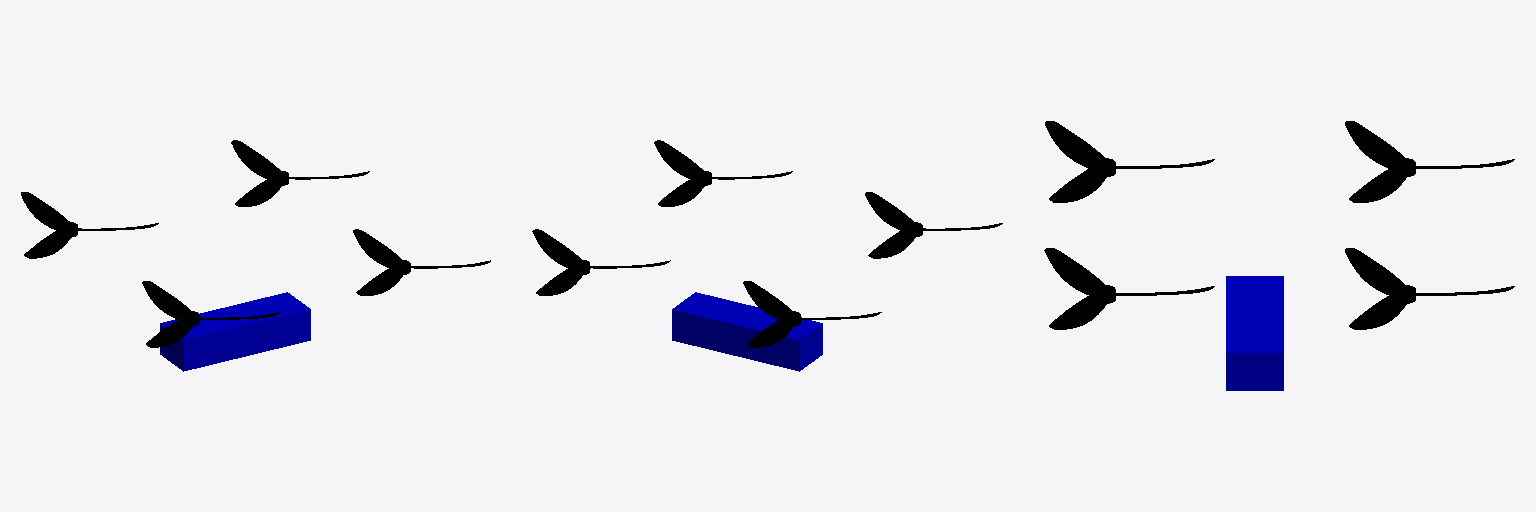
robot.urdf — module_quadrotor:
<?xml version="1.0" ?>
<!-- =================================================================================== -->
<!-- |    This document was autogenerated by xacro from urdf/robot.urdf.xacro          | -->
<!-- |    EDITING THIS FILE BY HAND IS NOT RECOMMENDED                                 | -->
<!-- =================================================================================== -->
<robot name="module_quadrotor">
  <!-- general attribute -->
  <baselink name="fc"/>
  <thrust_link name="thrust"/>
  <!-- dynamics -->
  <m_f_rate value="-0.011"/>
  <!-- [N] -->
  <!-- dummy root link for KDL -->
  <link name="root">
    <inertial>
      <origin rpy="0 0 0" xyz="0 0 0"/>
      <mass value="0.00001"/>
      <inertia ixx="0.000001" ixy="0.0" ixz="0.0" iyy="0.000001" iyz="0.0" izz="0.000002"/>
    </inertial>
  </link>
  <joint name="root_joint" type="fixed">
    <parent link="root"/>
    <child link="base_link"/>
    <origin rpy="0 0 0" xyz="0 0 0"/>
    <axis xyz="0 0 1"/>
  </joint>
  <!-- base_link -->
  <link name="base_link">
    <inertial>
      <mass value="0.832"/>
      <origin rpy="0 0 0" xyz="0.002 0 0.026000000000000002"/>
      <!-- TODO: true cog pos -->
      <inertia ixx="0.0030" ixy="0" ixz="0" iyy="0.0030" iyz="0" izz="0.0045"/>
    </inertial>
    <visual>
      <origin rpy="0 0 0" xyz="0 0 0"/>
      <geometry>
        <mesh filename="package://mini_quadrotor/mesh/main_body_livox.dae"/>
      </geometry>
    </visual>
    <collision>
      <origin rpy="0 0 0" xyz="0 0 0.025"/>
      <geometry>
        <box size="0.32 0.32 0.16"/>
      </geometry>
    </collision>
  </link>
  <joint name="main_body2fc" type="fixed">
    <parent link="base_link"/>
    <child link="fc"/>
    <origin rpy="0 0 0" xyz="0 0 0"/>
  </joint>
  <link name="fc">
    <inertial>
      <origin rpy="0 0 0" xyz="0 0 0"/>
      <mass value="0.00001"/>
      <inertia ixx="0.000001" ixy="0.0" ixz="0.0" iyy="0.000001" iyz="0.0" izz="0.000001"/>
    </inertial>
  </link>
  <joint name="main_body2lidar_imu" type="fixed">
    <parent link="base_link"/>
    <child link="lidar_imu"/>
    <origin rpy="0 0 0" xyz="0.011 0.02329 0.04538"/>
  </joint>
  <link name="lidar_imu">
    <inertial>
      <origin rpy="0 0 0" xyz="0 0 0"/>
      <mass value="0.00001"/>
      <inertia ixx="0.000001" ixy="0.0" ixz="0.0" iyy="0.000001" iyz="0.0" izz="0.000001"/>
    </inertial>
  </link>
  <joint name="main_body2battery" type="fixed">
    <parent link="base_link"/>
    <child link="battery"/>
    <origin rpy="1.5707963267948966 0 0" xyz="0.0 0 -0.035"/>
  </joint>
  <link name="battery">
    <inertial>
      <mass value="0.188"/>
      <origin rpy="0 0 0" xyz="0 0 0"/>
      <inertia ixx="0.0002" ixy="0.0" ixz="0.0" iyy="0.0002" iyz="0.0" izz="0.0002"/>
    </inertial>
    <visual>
      <origin rpy="0 0 0" xyz="0 0 0"/>
      <geometry>
        <mesh filename="package://mini_quadrotor/mesh/turnigy_3S_2200mAh.dae" scale="1 1 1"/>
      </geometry>
    </visual>
  </link>
  <joint name="rotor1" type="continuous">
    <limit effort="100.0" lower="0.0" upper="8.0" velocity="0.5"/>
    <parent link="base_link"/>
    <child link="thrust1"/>
    <origin rpy="0 0 0" xyz="-0.085 -0.085 0.026"/>
    <axis xyz="0 0 -1"/>
  </joint>
  <link name="thrust1">
    <!-- visual & collisiont -->
    <inertial>
      <origin rpy="0 0 0" xyz="0 0 0"/>
      <mass value="0.0091"/>
      <inertia ixx="0.00000807" ixy="0.0" ixz="0.0" iyy="0.00000807" iyz="0.0" izz="0.00001612"/>
    </inertial>
    <visual>
      <origin rpy="0 0 0" xyz="0 0 0"/>
      <geometry>
        <mesh filename="package://mini_quadrotor/mesh/prop_5inch.dae"/>
      </geometry>
    </visual>
  </link>
  <gazebo reference="base_link">
    <dampingFactor>0.00</dampingFactor>
  </gazebo>
  <transmission name="rotor_tran1">
    <type>transmission_interface/SimpleTransmission</type>
    <joint name="rotor1">
      <!-- TODO: effort is torque, maybe position is enough -->
      <hardwareInterface>RotorInterface</hardwareInterface>
    </joint>
    <actuator name="rotor1">
      <!-- TODO: effort is torque, maybe position is enough -->
      <hardwareInterface>RotorInterface</hardwareInterface>
      <mechanicalReduction>1</mechanicalReduction>
    </actuator>
  </transmission>
  <joint name="rotor2" type="continuous">
    <limit effort="100.0" lower="0.0" upper="8.0" velocity="0.5"/>
    <parent link="base_link"/>
    <child link="thrust2"/>
    <origin rpy="0 0 0" xyz="0.085 -0.085 0.026"/>
    <axis xyz="0 0 1"/>
  </joint>
  <link name="thrust2">
    <!-- visual & collisiont -->
    <inertial>
      <origin rpy="0 0 0" xyz="0 0 0"/>
      <mass value="0.0091"/>
      <inertia ixx="0.00000807" ixy="0.0" ixz="0.0" iyy="0.00000807" iyz="0.0" izz="0.00001612"/>
    </inertial>
    <visual>
      <origin rpy="0 0 0" xyz="0 0 0"/>
      <geometry>
        <mesh filename="package://mini_quadrotor/mesh/prop_5inch.dae"/>
      </geometry>
    </visual>
  </link>
  <gazebo reference="base_link">
    <dampingFactor>0.00</dampingFactor>
  </gazebo>
  <transmission name="rotor_tran2">
    <type>transmission_interface/SimpleTransmission</type>
    <joint name="rotor2">
      <!-- TODO: effort is torque, maybe position is enough -->
      <hardwareInterface>RotorInterface</hardwareInterface>
    </joint>
    <actuator name="rotor2">
      <!-- TODO: effort is torque, maybe position is enough -->
      <hardwareInterface>RotorInterface</hardwareInterface>
      <mechanicalReduction>1</mechanicalReduction>
    </actuator>
  </transmission>
  <joint name="rotor3" type="continuous">
    <limit effort="100.0" lower="0.0" upper="8.0" velocity="0.5"/>
    <parent link="base_link"/>
    <child link="thrust3"/>
    <origin rpy="0 0 0" xyz="0.085 0.085 0.026"/>
    <axis xyz="0 0 -1"/>
  </joint>
  <link name="thrust3">
    <!-- visual & collisiont -->
    <inertial>
      <origin rpy="0 0 0" xyz="0 0 0"/>
      <mass value="0.0091"/>
      <inertia ixx="0.00000807" ixy="0.0" ixz="0.0" iyy="0.00000807" iyz="0.0" izz="0.00001612"/>
    </inertial>
    <visual>
      <origin rpy="0 0 0" xyz="0 0 0"/>
      <geometry>
        <mesh filename="package://mini_quadrotor/mesh/prop_5inch.dae"/>
      </geometry>
    </visual>
  </link>
  <gazebo reference="base_link">
    <dampingFactor>0.00</dampingFactor>
  </gazebo>
  <transmission name="rotor_tran3">
    <type>transmission_interface/SimpleTransmission</type>
    <joint name="rotor3">
      <!-- TODO: effort is torque, maybe position is enough -->
      <hardwareInterface>RotorInterface</hardwareInterface>
    </joint>
    <actuator name="rotor3">
      <!-- TODO: effort is torque, maybe position is enough -->
      <hardwareInterface>RotorInterface</hardwareInterface>
      <mechanicalReduction>1</mechanicalReduction>
    </actuator>
  </transmission>
  <joint name="rotor4" type="continuous">
    <limit effort="100.0" lower="0.0" upper="8.0" velocity="0.5"/>
    <parent link="base_link"/>
    <child link="thrust4"/>
    <origin rpy="0 0 0" xyz="-0.085 0.085 0.026"/>
    <axis xyz="0 0 1"/>
  </joint>
  <link name="thrust4">
    <!-- visual & collisiont -->
    <inertial>
      <origin rpy="0 0 0" xyz="0 0 0"/>
      <mass value="0.0091"/>
      <inertia ixx="0.00000807" ixy="0.0" ixz="0.0" iyy="0.00000807" iyz="0.0" izz="0.00001612"/>
    </inertial>
    <visual>
      <origin rpy="0 0 0" xyz="0 0 0"/>
      <geometry>
        <mesh filename="package://mini_quadrotor/mesh/prop_5inch.dae"/>
      </geometry>
    </visual>
  </link>
  <gazebo reference="base_link">
    <dampingFactor>0.00</dampingFactor>
  </gazebo>
  <transmission name="rotor_tran4">
    <type>transmission_interface/SimpleTransmission</type>
    <joint name="rotor4">
      <!-- TODO: effort is torque, maybe position is enough -->
      <hardwareInterface>RotorInterface</hardwareInterface>
    </joint>
    <actuator name="rotor4">
      <!-- TODO: effort is torque, maybe position is enough -->
      <hardwareInterface>RotorInterface</hardwareInterface>
      <mechanicalReduction>1</mechanicalReduction>
    </actuator>
  </transmission>
</robot>

--- Facts derived from the render (not from the file) ---
Views: 3 orthographic renders of the robot side by side, from view 1: azimuth 30°, elevation 25°; view 2: azimuth 150°, elevation 25°; view 3: azimuth 270°, elevation 25°.
Robot: module_quadrotor — 9 links, 8 joints (4 continuous, 4 fixed); root link root; default pose: all joints at 0.
Visible links, largest first — view 1: battery, thrust2, thrust3, thrust4, thrust1; view 2: battery, thrust3, thrust2, thrust1, thrust4; view 3: battery, thrust3, thrust2, thrust1, thrust4.
Boxes of the visible links, x1,y1,x2,y2 form: battery: (160,292,310,371); thrust2: (353,229,490,295); thrust3: (231,140,369,206); thrust4: (21,192,158,258); thrust1: (142,281,280,347); battery: (672,292,822,371); thrust3: (532,229,670,295); thrust2: (654,140,792,206); thrust1: (865,192,1002,258); thrust4: (743,281,881,347); battery: (1226,276,1283,390); thrust3: (1345,248,1514,329); thrust2: (1044,248,1214,329); thrust1: (1045,121,1214,202); thrust4: (1345,121,1514,202).
Bounding box of the posed robot: 0.2792 × 0.2669 × 0.0806 m (x, y, z).
Meshes: 3 distinct files referenced, 5 mesh visuals loaded (2 Collada DAE); not drawn: 1 (file found but could not be loaded).
